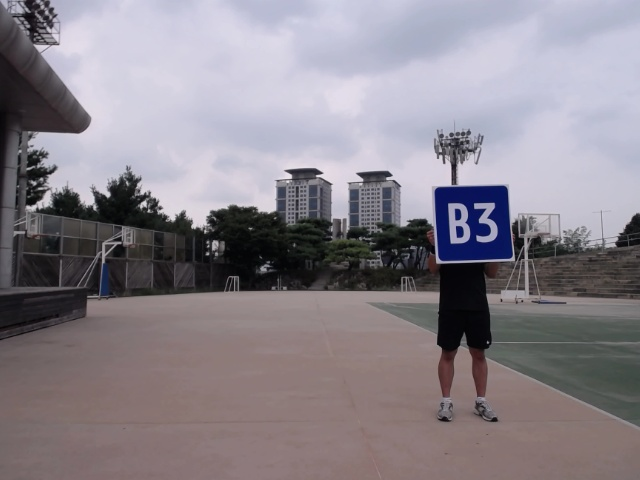delivery_b3: (430, 184, 518, 265)
